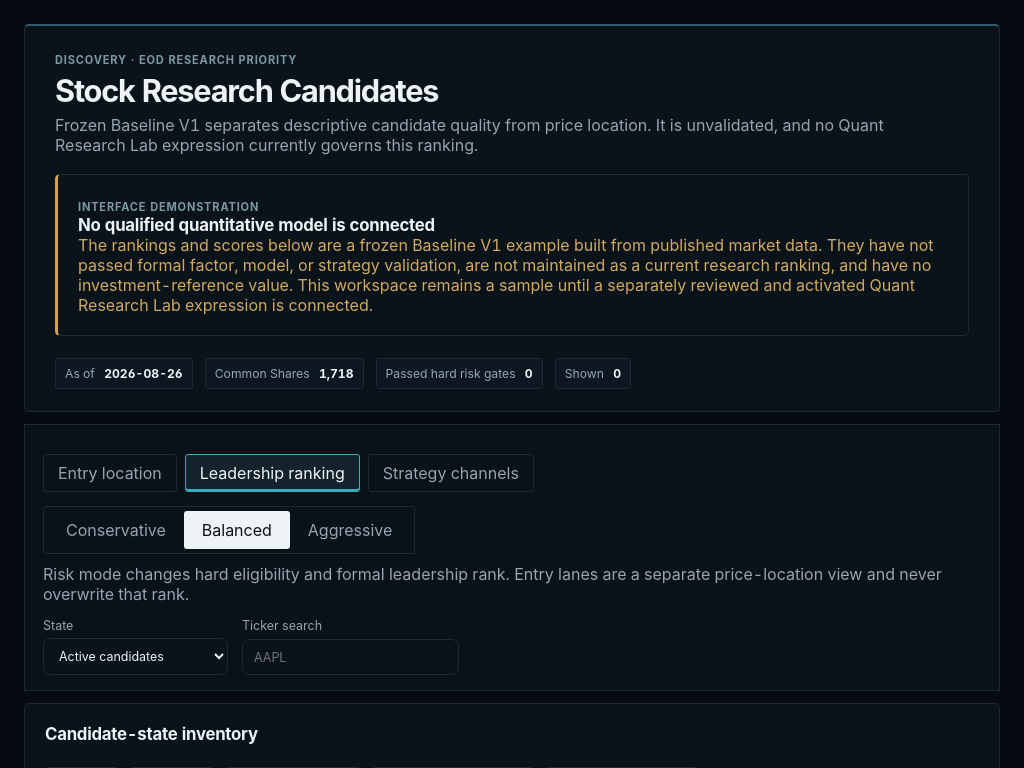
Test case: strategy-channel workspace › keeps the strategy payload lazy and presents same-channel reasons separately from trade decisions
This screenshot has width=1024, height=768.
Check: the heading "No qualified quantitative model is connected" is shown, box [78,215,435,235]
Check: the text "have no investment-reference value" is shown, box [78,235,934,315]
Click the button "Strategy channels" at (451, 473), box [368,454,534,492]
(page scrolled)
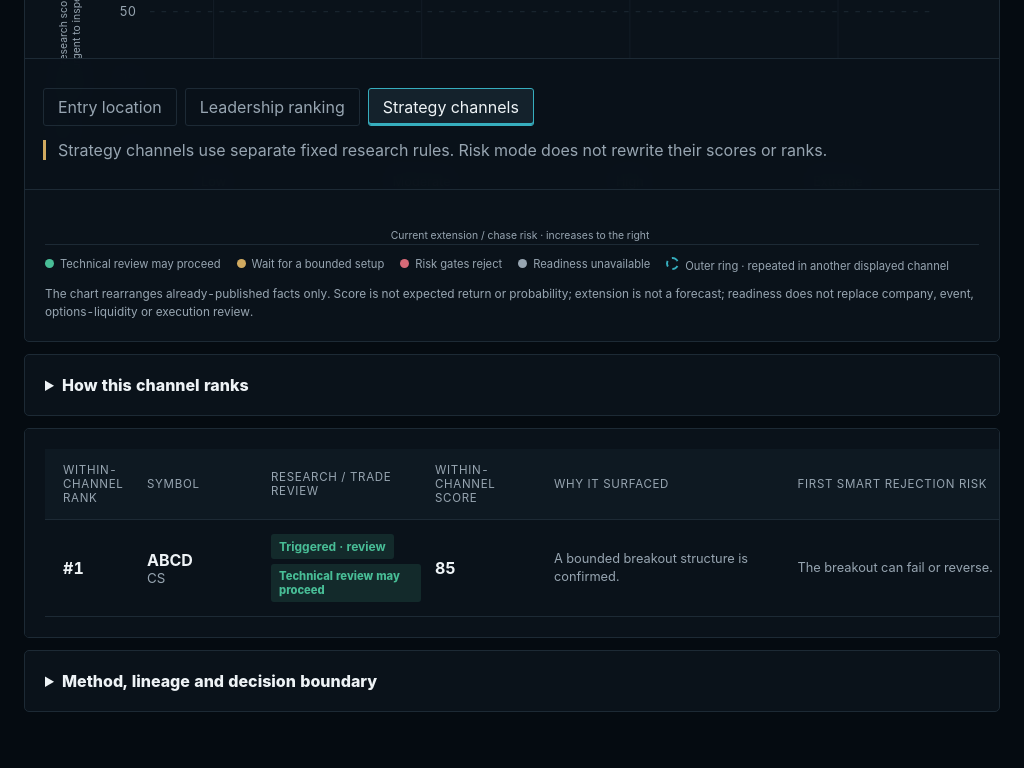
Check: the button "Balanced" is gone
Check: the text "Triggered · review" is shown 2 times
Click the heading "How this channel ranks" at (155, 385), box [62,375,248,395]
(page scrolled)
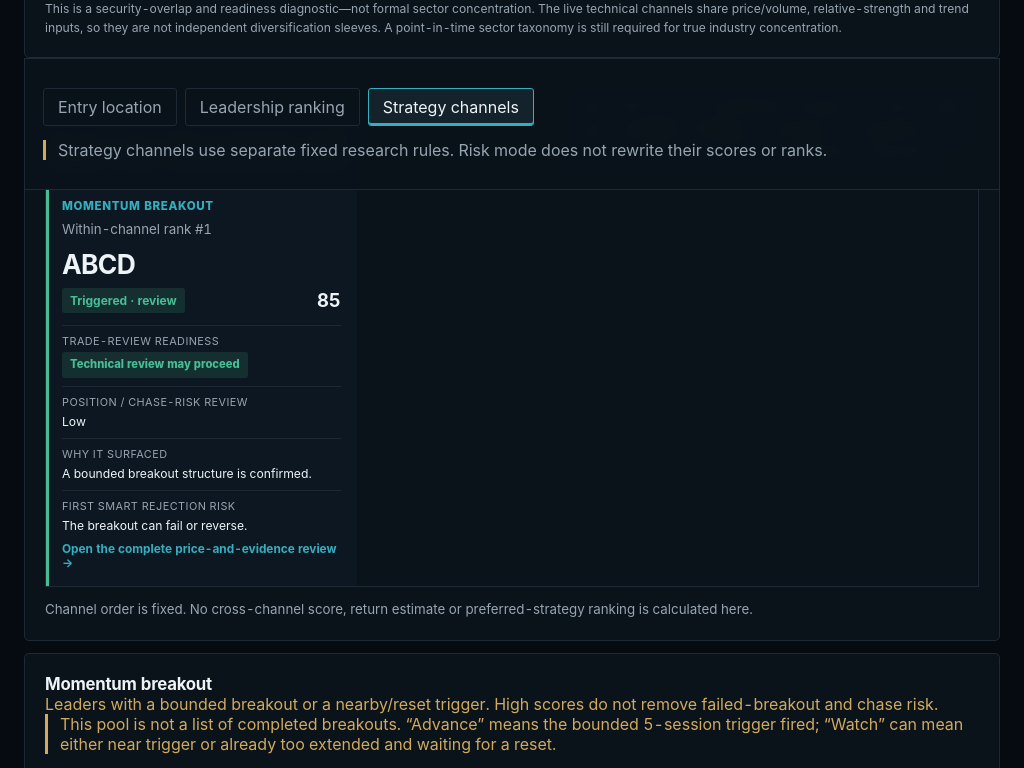
Click the button "ABCD" at (201, 384), box [46,183,357,586]
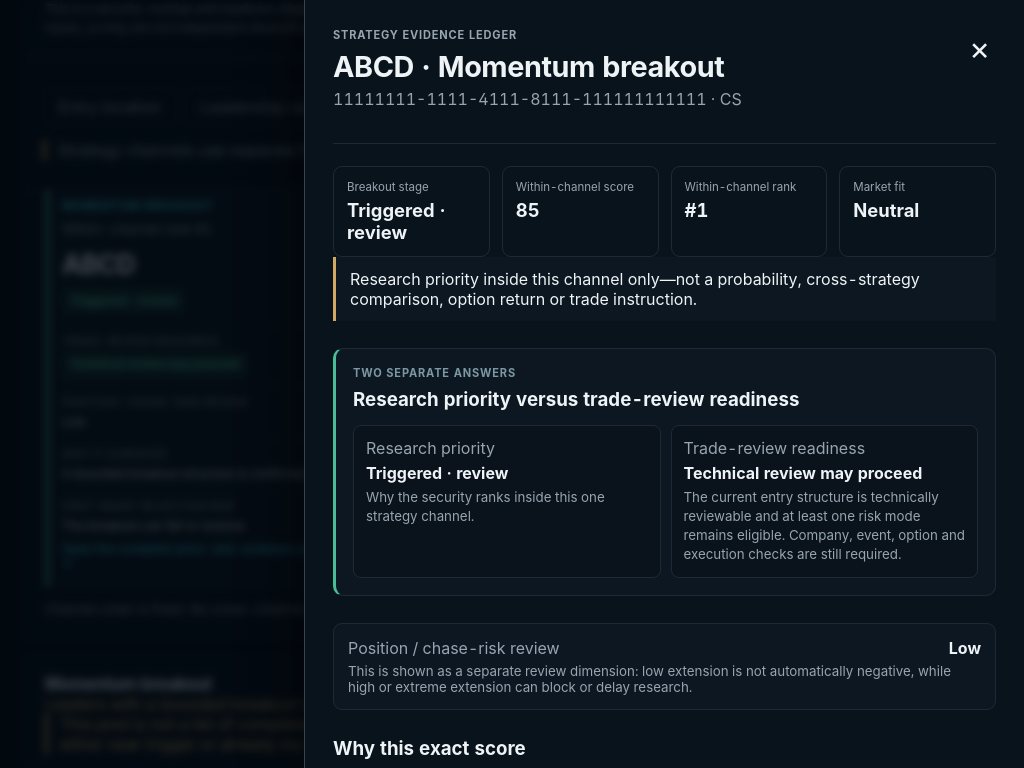
Check: the dialog shows "ABCD · Momentum breakout"
Check: the dialog shows "Triggered · review", box [347,198,446,242]
Check: the dialog shows "Research priority versus trade-review readiness", box [353,388,799,410]
